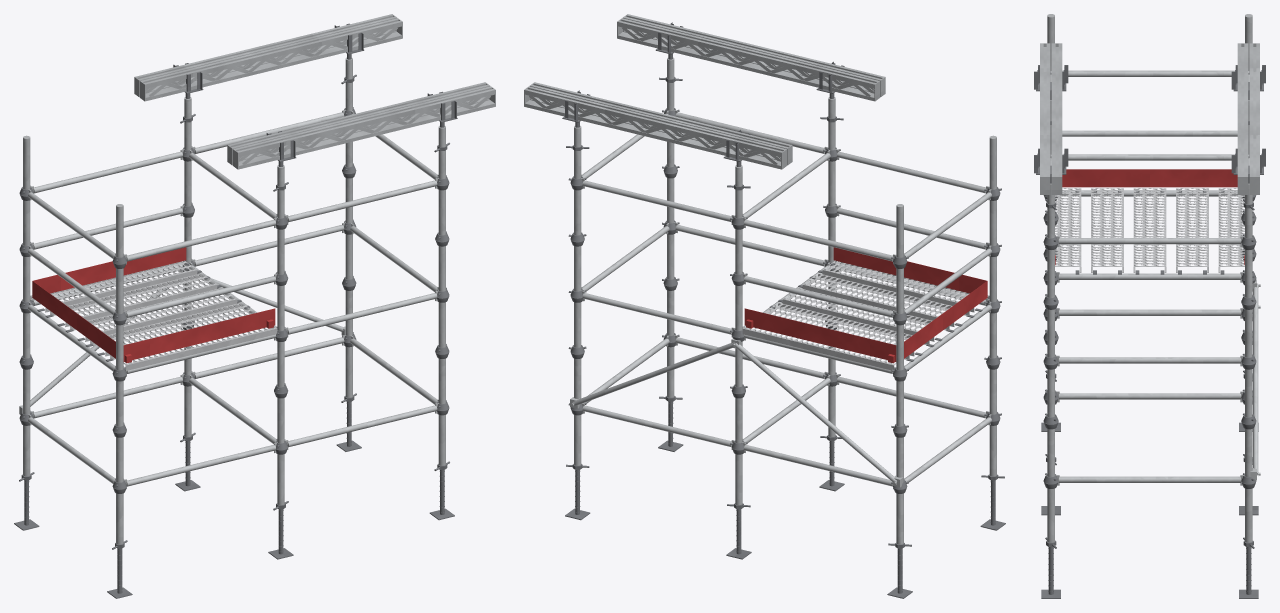
The model's file is cuplock-system.glb.
3 renders of one model, left to right at view 1: azimuth 30°, elevation 25°; view 2: azimuth 150°, elevation 25°; view 3: azimuth 270°, elevation 25°, orthographic. The views are drawn at different scales.
Visible parts, largest first — view 1: Ledgers, LatticeBeams(context), Standards, DeckPlanks, ToeGuards, BaseJacks, TopCups, BottomCups, U-HeadJacks, DiagonalBraces; view 2: Ledgers, LatticeBeams(context), Standards, DeckPlanks, ToeGuards, TopCups, BaseJacks, DiagonalBraces, BottomCups, U-HeadJacks; view 3: Ledgers, DeckPlanks, LatticeBeams(context), Standards, ToeGuards, TopCups, BaseJacks, U-HeadJacks, DiagonalBraces, BottomCups.
Boxes of the visible parts, x1=… form: Ledgers: x1=28, y1=110, x2=438, y2=489; LatticeBeams(context): x1=134, y1=14, x2=495, y2=169; Standards: x1=23, y1=57, x2=445, y2=544; DeckPlanks: x1=30, y1=260, x2=277, y2=370; ToeGuards: x1=32, y1=247, x2=275, y2=363; BaseJacks: x1=14, y1=393, x2=454, y2=598; TopCups: x1=19, y1=107, x2=449, y2=489; BottomCups: x1=19, y1=156, x2=449, y2=493; U-HeadJacks: x1=173, y1=23, x2=457, y2=191; DiagonalBraces: x1=19, y1=270, x2=345, y2=414; Ledgers: x1=581, y1=110, x2=991, y2=489; LatticeBeams(context): x1=524, y1=14, x2=885, y2=169; Standards: x1=574, y1=57, x2=996, y2=544; DeckPlanks: x1=742, y1=260, x2=989, y2=370; ToeGuards: x1=744, y1=247, x2=987, y2=363; TopCups: x1=568, y1=108, x2=1001, y2=489; BaseJacks: x1=565, y1=396, x2=1005, y2=598; DiagonalBraces: x1=570, y1=338, x2=903, y2=487; BottomCups: x1=570, y1=156, x2=1000, y2=493; U-HeadJacks: x1=562, y1=22, x2=844, y2=190; Ledgers: x1=1050, y1=70, x2=1249, y2=485; DeckPlanks: x1=1055, y1=188, x2=1244, y2=272; LatticeBeams(context): x1=1040, y1=43, x2=1259, y2=194; Standards: x1=1047, y1=14, x2=1252, y2=542; ToeGuards: x1=1055, y1=169, x2=1244, y2=265; TopCups: x1=1043, y1=71, x2=1256, y2=483; BaseJacks: x1=1041, y1=370, x2=1258, y2=598; U-HeadJacks: x1=1034, y1=65, x2=1265, y2=210; DiagonalBraces: x1=1250, y1=279, x2=1260, y2=480; BottomCups: x1=1044, y1=196, x2=1255, y2=488.
Bounding box in the file's own units: 3.54 × 3.71 × 1.76.
Materials: 5 (5 with a texture image).
